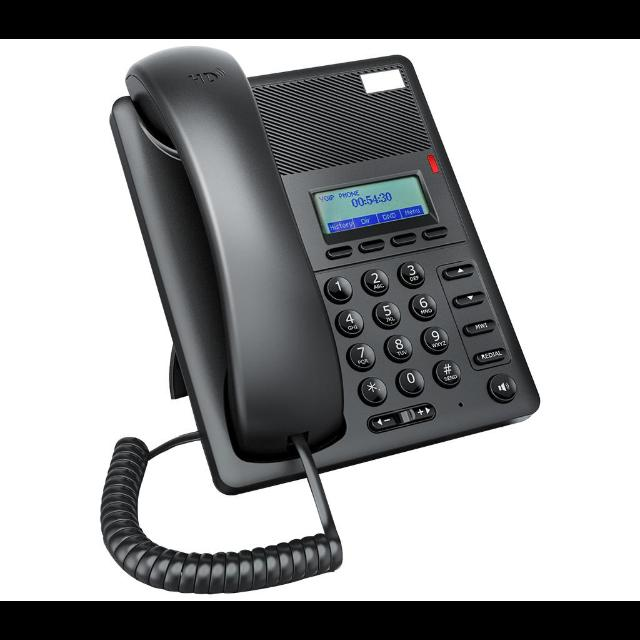Telephone-Set: (44, 39, 496, 580)
